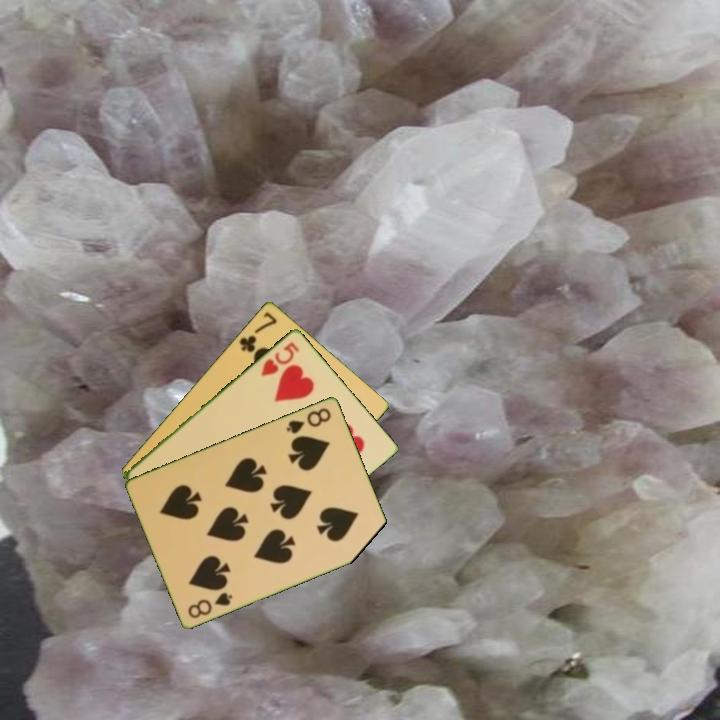5h: (258, 338, 302, 379)
7c: (235, 308, 280, 355)
8s: (184, 588, 236, 621), (283, 404, 334, 436)
